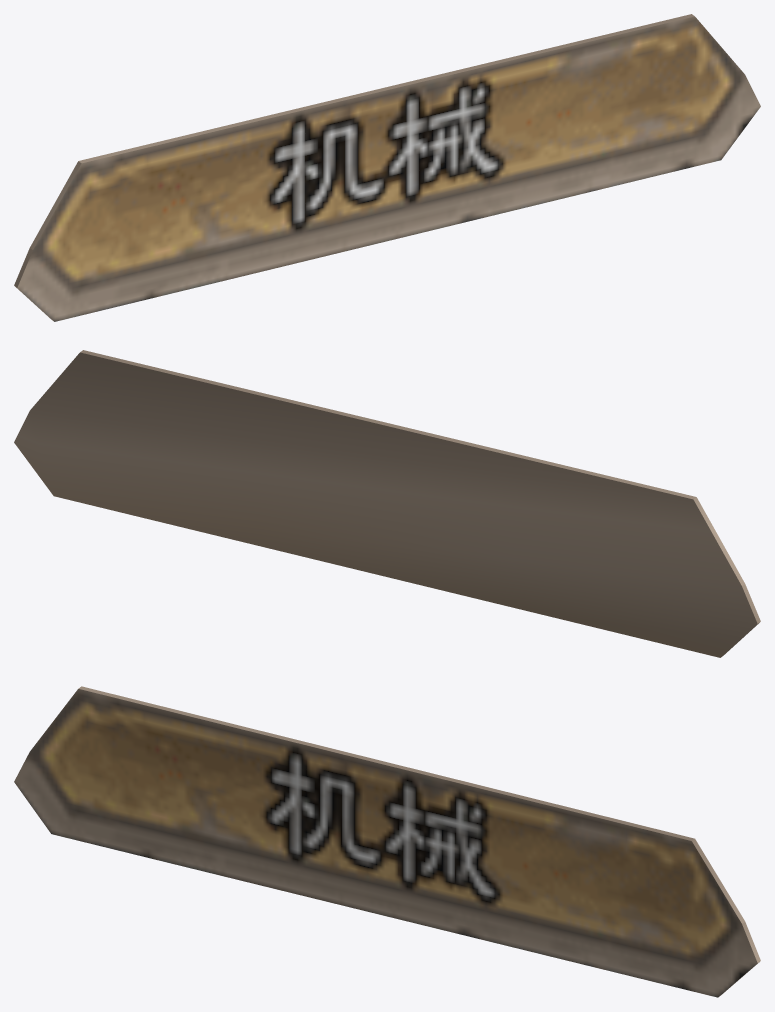
The model's file is Race.glb.
The picture shows the model from 3 angles, top to bottom: view 1: azimuth 30°, elevation 25°; view 2: azimuth 150°, elevation 25°; view 3: azimuth 330°, elevation 25°; orthographic projection.
Parts seen in each view (by area): view 1: Race; view 2: Race; view 3: Race.
Boxes of the visible parts, bbox=[...] form: Race: bbox=[14, 14, 760, 321]; Race: bbox=[14, 350, 760, 657]; Race: bbox=[14, 686, 760, 997].
Size of the model in its own units: 3.91 by 0.7681 by 0.03.
Materials: 1 (1 with a texture image).
